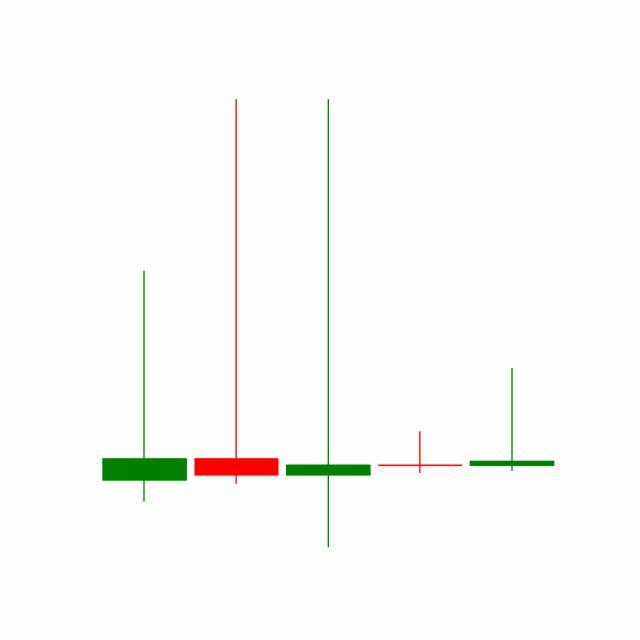Hammer: (374, 431, 468, 475)
